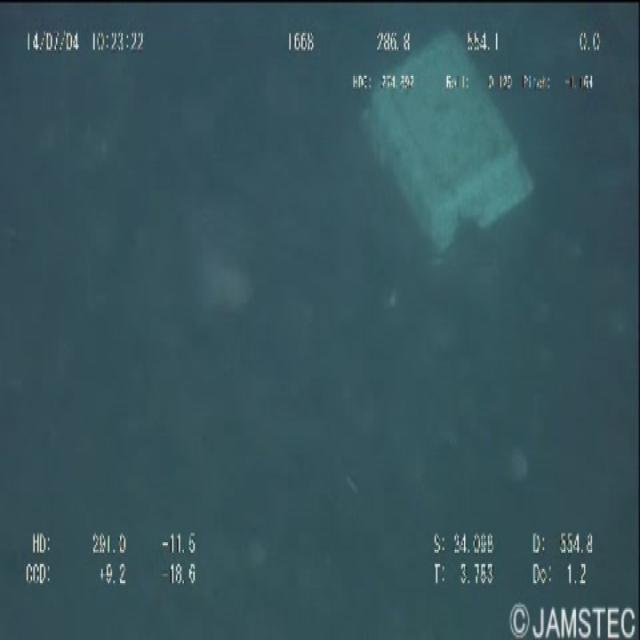Cutlery: (354, 31, 542, 260)
